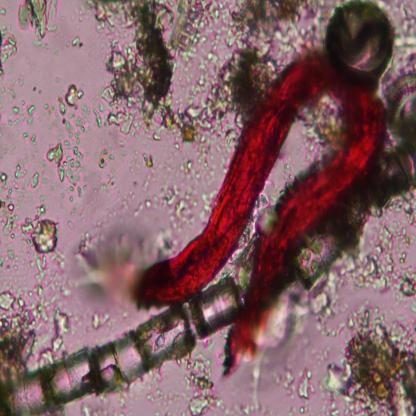Background material: (86, 0, 179, 144), (178, 45, 271, 143), (327, 314, 416, 414), (0, 262, 71, 379), (72, 221, 149, 306), (345, 219, 416, 300), (260, 290, 336, 353), (225, 0, 315, 50), (48, 82, 86, 198), (170, 0, 225, 66), (185, 353, 229, 415), (157, 182, 201, 234), (22, 206, 61, 260), (88, 135, 122, 196), (176, 135, 218, 183), (17, 0, 59, 45), (240, 358, 272, 414), (276, 360, 314, 404), (391, 9, 416, 74), (2, 165, 40, 195), (128, 139, 158, 175), (0, 25, 19, 72), (0, 196, 20, 240), (18, 126, 41, 158), (12, 99, 34, 125), (0, 77, 22, 98), (0, 247, 19, 268), (92, 311, 110, 329), (68, 34, 84, 49)
Cotton: (134, 55, 389, 363)
Diatom: (0, 273, 240, 415), (293, 142, 416, 288), (329, 0, 394, 81), (383, 70, 416, 141)
